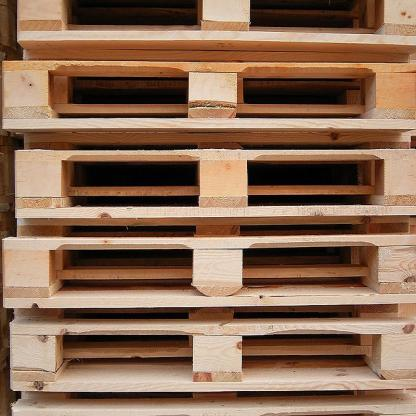BoxFace: (2, 60, 416, 128), (7, 324, 415, 388), (5, 235, 416, 296)
